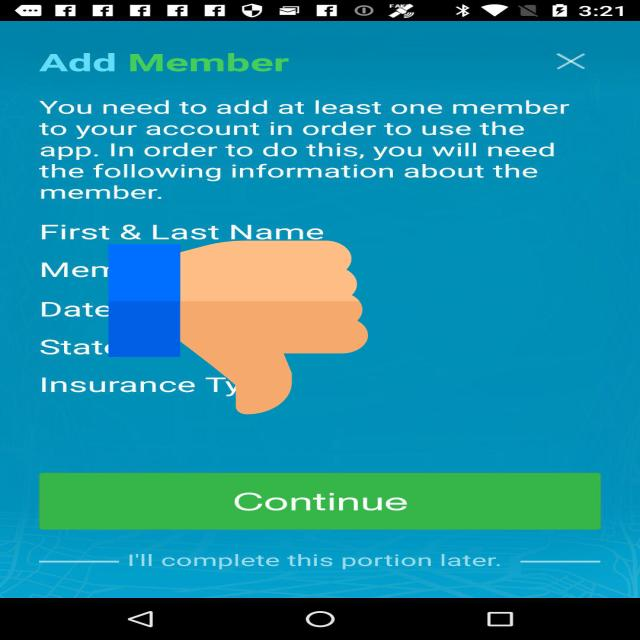obstruction: (108, 236, 368, 419)
